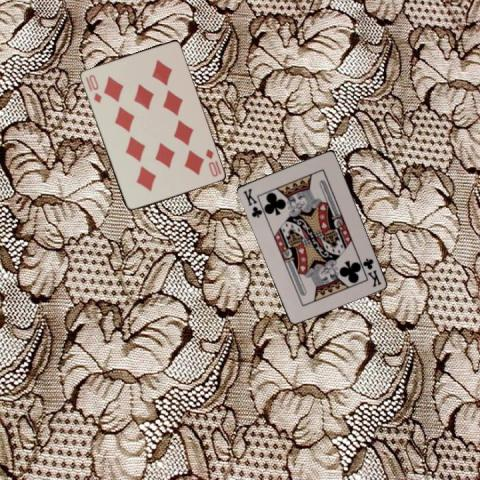10d: (202, 146, 222, 178), (85, 71, 103, 104)
Kc: (359, 255, 383, 288), (240, 185, 263, 219)
